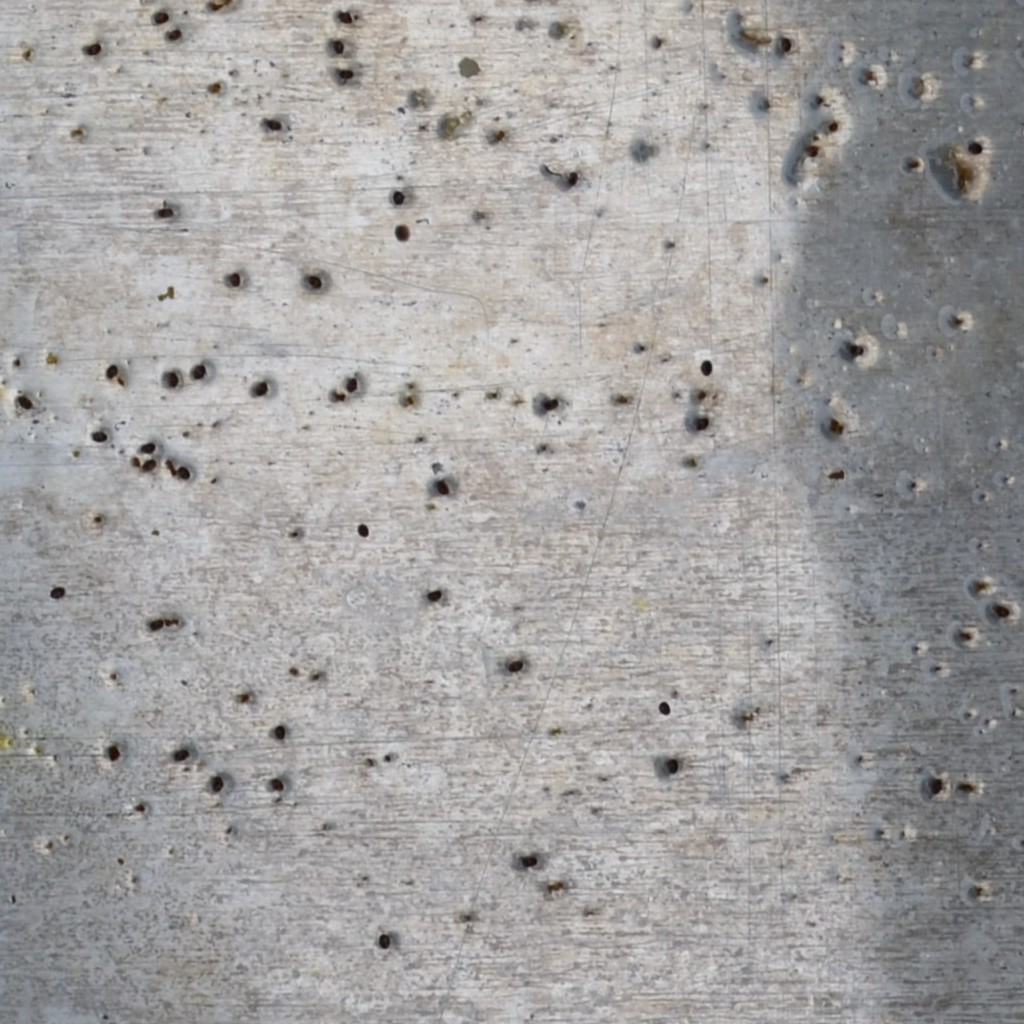varroa: (990, 598, 1015, 622), (208, 771, 228, 796), (519, 850, 538, 876), (927, 769, 943, 799), (965, 140, 989, 158), (696, 357, 716, 378), (506, 656, 525, 678), (354, 519, 372, 542), (325, 34, 345, 54), (655, 698, 675, 718), (106, 742, 125, 763), (334, 7, 356, 25), (434, 476, 452, 498), (164, 368, 181, 391), (177, 461, 193, 485), (250, 379, 269, 399), (393, 220, 411, 241), (344, 375, 361, 397), (103, 361, 119, 384), (48, 584, 67, 603), (90, 427, 110, 445), (306, 272, 325, 290), (15, 391, 33, 410), (335, 62, 355, 79), (226, 269, 243, 289), (377, 929, 391, 953), (141, 456, 158, 475), (138, 439, 158, 455), (665, 756, 681, 776), (171, 747, 191, 763), (391, 187, 406, 208), (268, 775, 286, 792), (166, 25, 182, 44), (273, 723, 287, 744), (193, 363, 207, 382), (154, 9, 170, 25)
